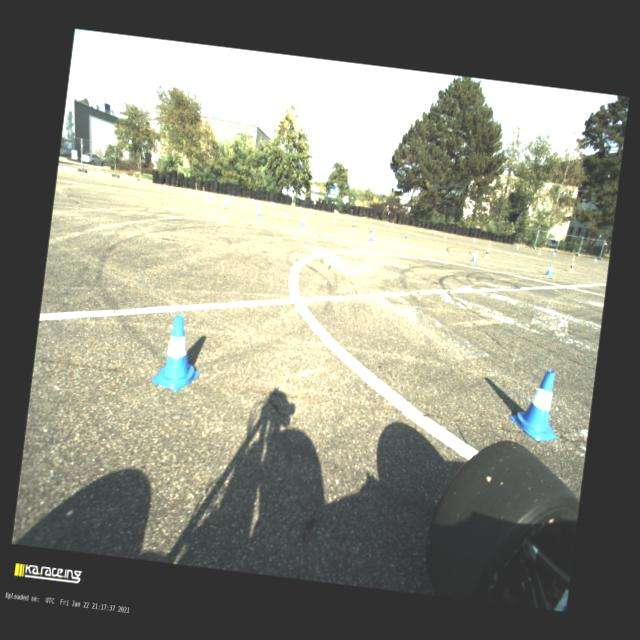blue_cone: (507, 366, 565, 443), (150, 312, 205, 392), (545, 262, 553, 276), (470, 249, 478, 262), (300, 214, 306, 226), (368, 229, 374, 241), (222, 198, 228, 206), (204, 193, 210, 200), (257, 206, 261, 215), (207, 192, 212, 198), (298, 206, 302, 211), (472, 236, 475, 242), (592, 258, 596, 262), (433, 230, 436, 235), (271, 201, 274, 206), (552, 251, 555, 255), (516, 244, 518, 250), (230, 196, 233, 200), (386, 221, 388, 226), (251, 198, 253, 203)
yellow_cone: (568, 262, 575, 272), (402, 232, 408, 242), (484, 248, 489, 259), (350, 222, 356, 230), (284, 208, 289, 216), (276, 203, 280, 209), (570, 254, 574, 260), (487, 240, 491, 245), (537, 249, 541, 254), (308, 208, 311, 214), (390, 222, 393, 228), (444, 232, 446, 238)
